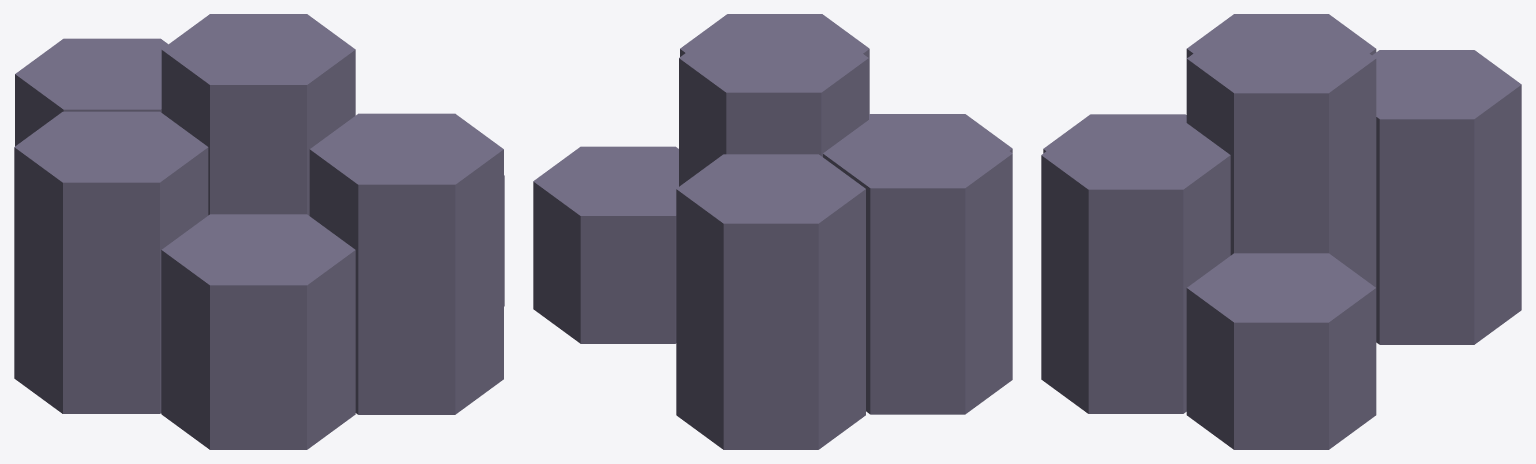
The model's file is 玄武岩_05.glb.
The picture shows the model from 3 angles, left to right: view 1: azimuth 30°, elevation 25°; view 2: azimuth 150°, elevation 25°; view 3: azimuth 270°, elevation 25°; orthographic projection. The views are drawn at different scales.
Parts seen in each view (by area): view 1: 玄武岩_05; view 2: 玄武岩_05; view 3: 玄武岩_05.
Boxes of the visible parts, box(x1,y1,x2,y2) form: 玄武岩_05: box(14, 14, 504, 449); 玄武岩_05: box(533, 14, 1012, 449); 玄武岩_05: box(1041, 14, 1521, 449).
Bounding box in the file's own units: 3.93 × 2.49 × 3.79.
